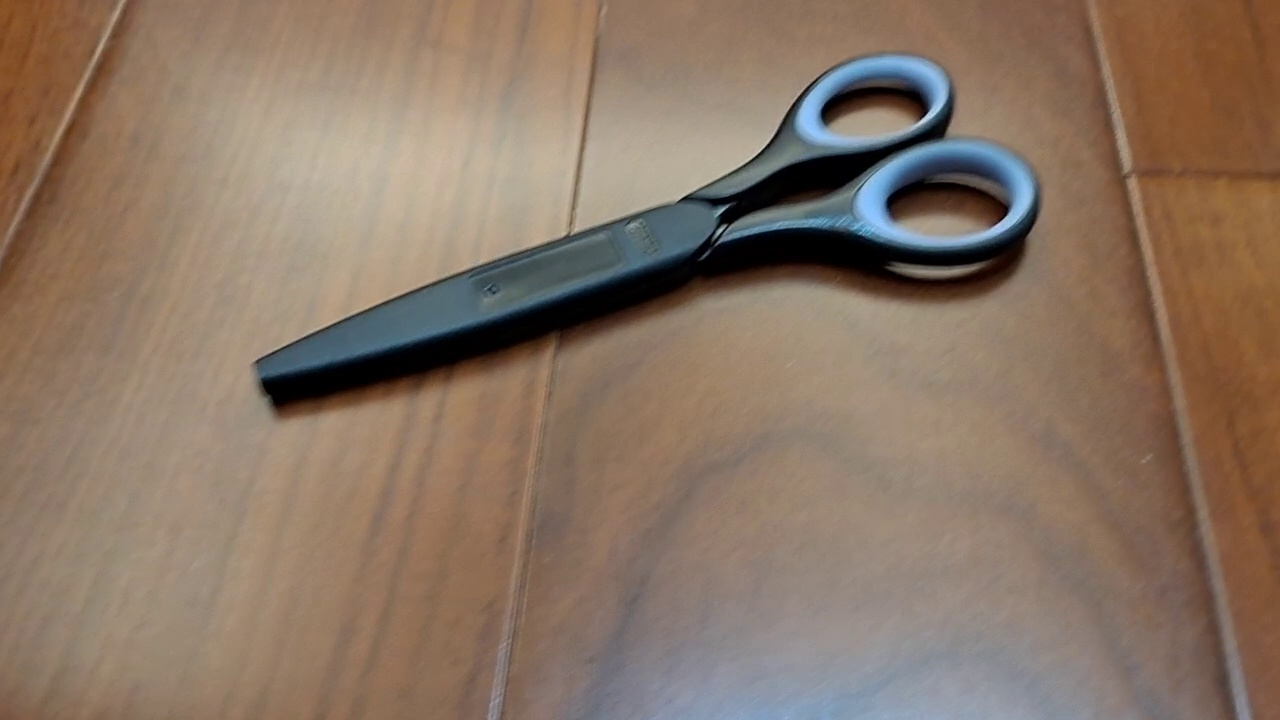scissors: (251, 45, 1042, 408)
